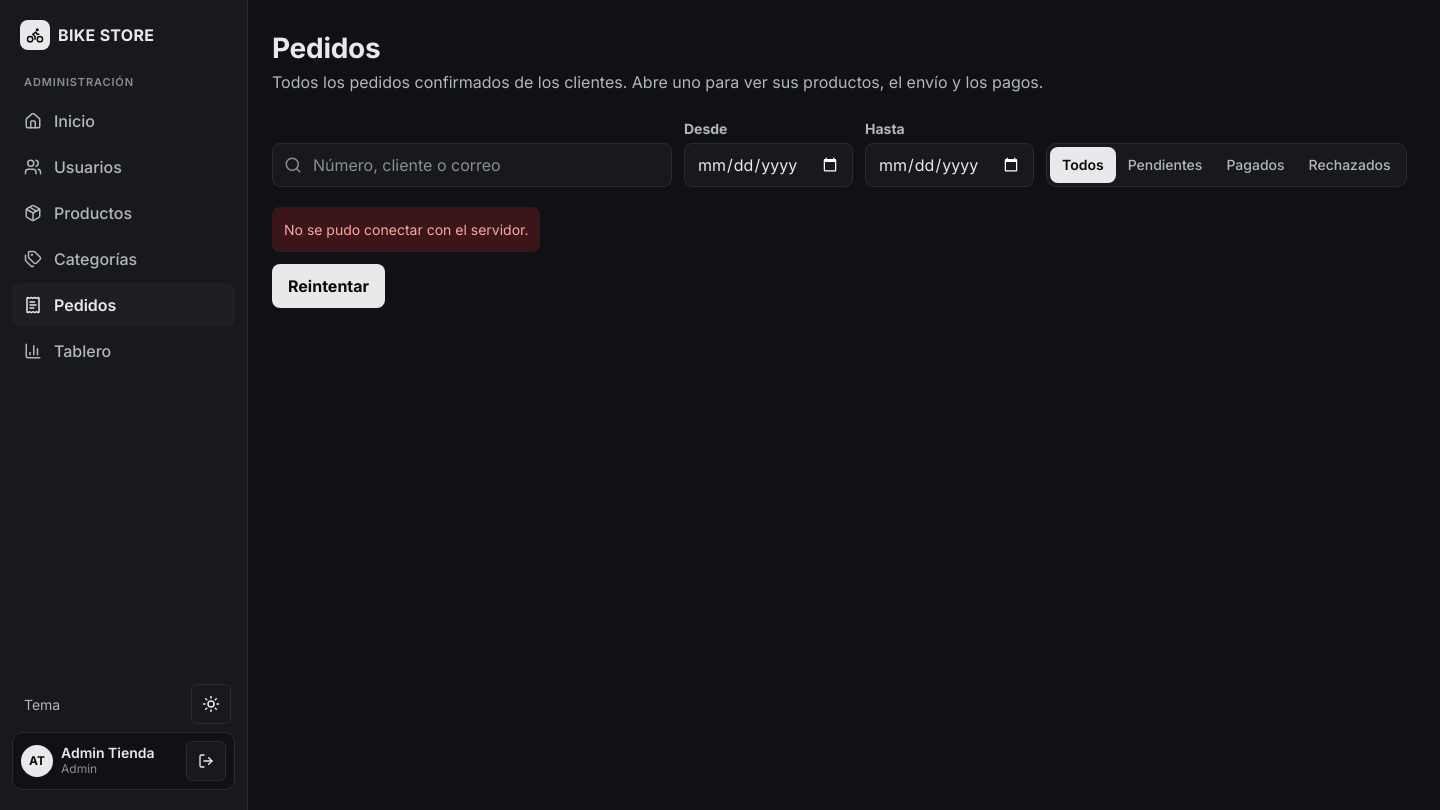
Scenario: Listado › si la API falla, muestra el error y 'Reintentar' vuelve a pedir
Expected: the message reads "No se pudo conectar con el servidor.", 284,221 -> 528,238
What coordinates should you click on to do the following:
click the button "Reintentar"
I would click on:
 (329, 286)
Its box is 272,264 -> 385,308.
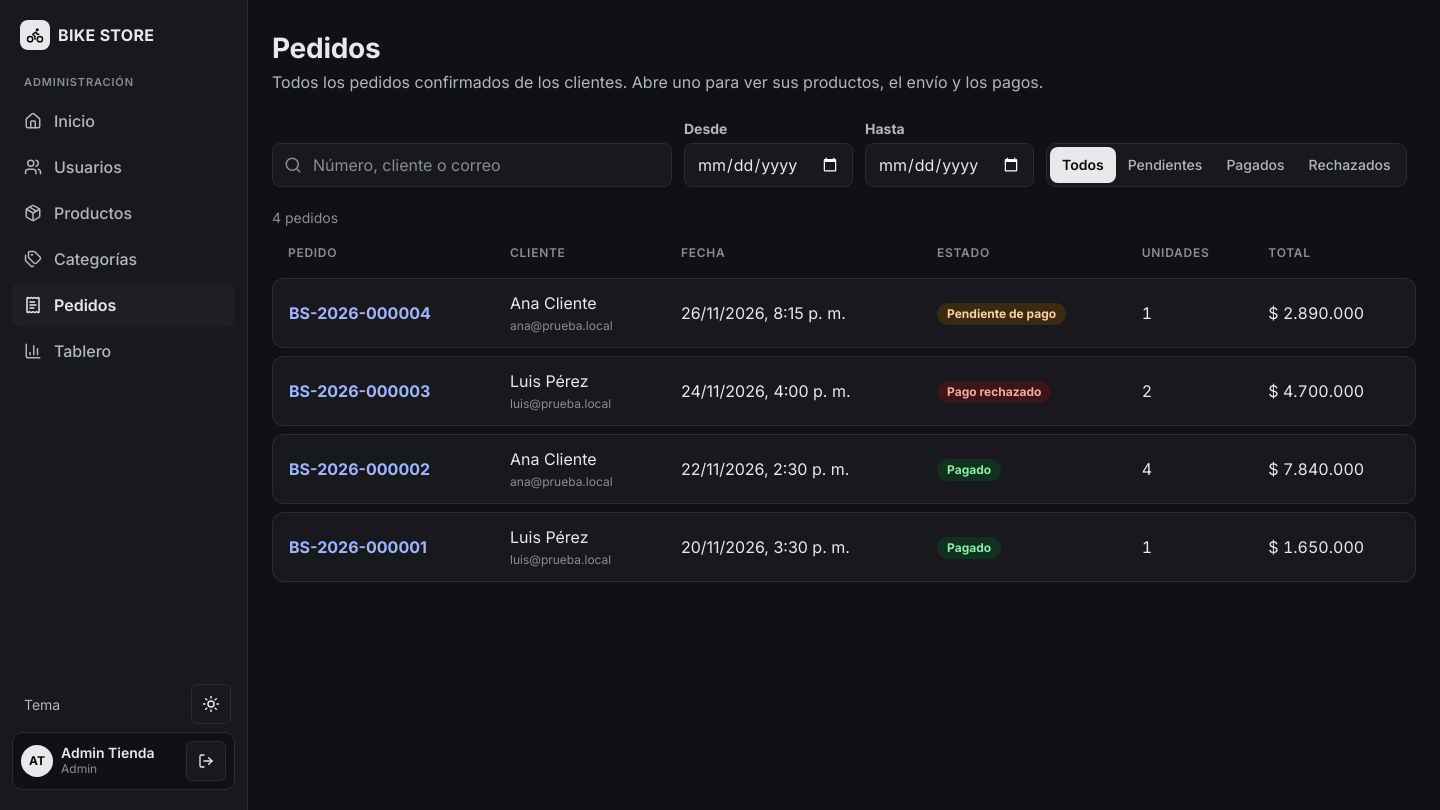
Expected: the table named "Listado de pedidos" is shown, 272,236 -> 1416,590
